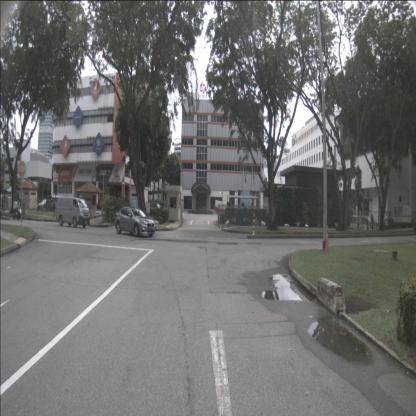cone: (324, 230, 330, 252)
